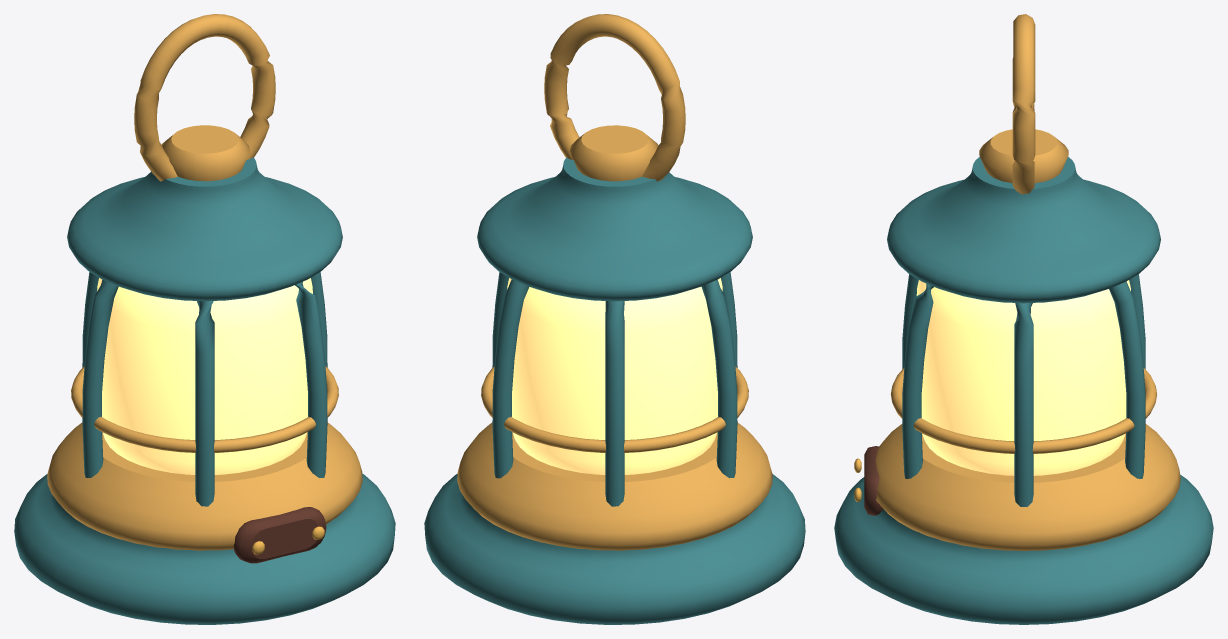
Rendered from atelier_harbor_lamp.glb.
3 views of the same model, side by side, from view 1: azimuth 30°, elevation 25°; view 2: azimuth 150°, elevation 25°; view 3: azimuth 270°, elevation 25° (orthographic).
Visible parts, largest first — view 1: Farol de puerto.001; view 2: Farol de puerto.001; view 3: Farol de puerto.001.
Boxes of the visible parts, left/top/right/bottom form: Farol de puerto.001: left=14, top=14, right=395, bottom=624; Farol de puerto.001: left=424, top=14, right=805, bottom=624; Farol de puerto.001: left=834, top=14, right=1213, bottom=624.
Bounding box in the file's own units: 0.4641 × 0.7303 × 0.4641.
